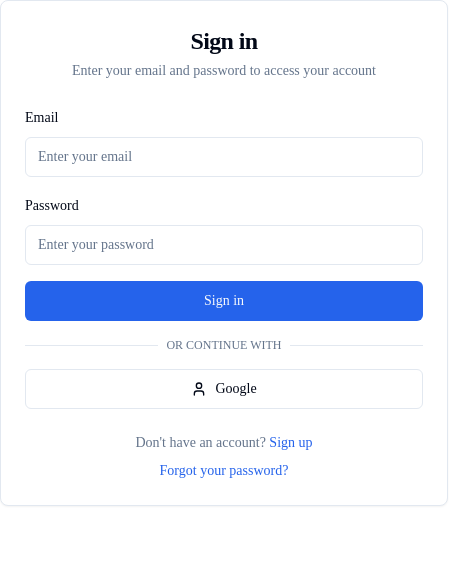
LoginForm › shows validation error for short password
Type "123" into the password field labelled "Password" at [224, 245], box [25, 225, 423, 265]
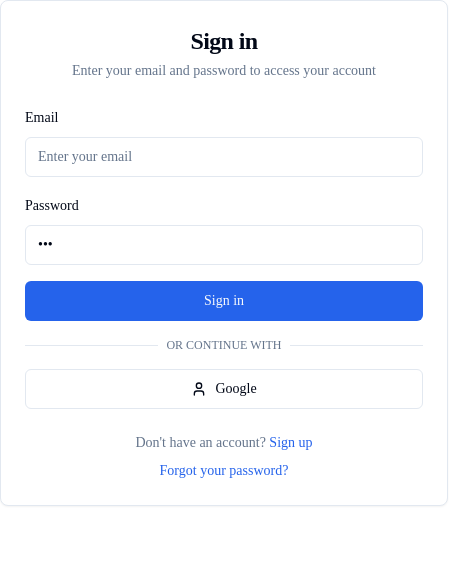
Click the button "Sign in" at [224, 301], box [25, 281, 423, 321]
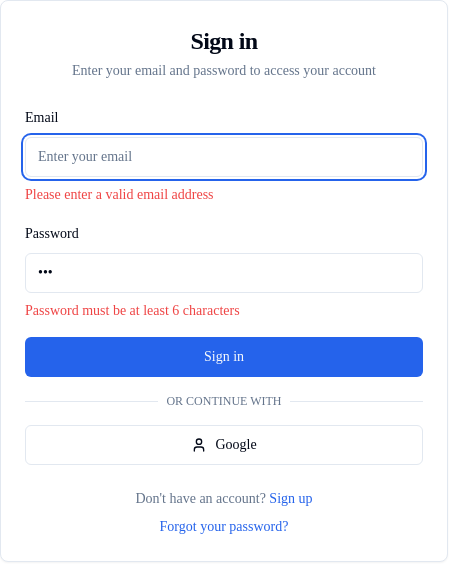
Expected: the text "Password must be at least 6 characters" is shown, [25, 303, 240, 318]
